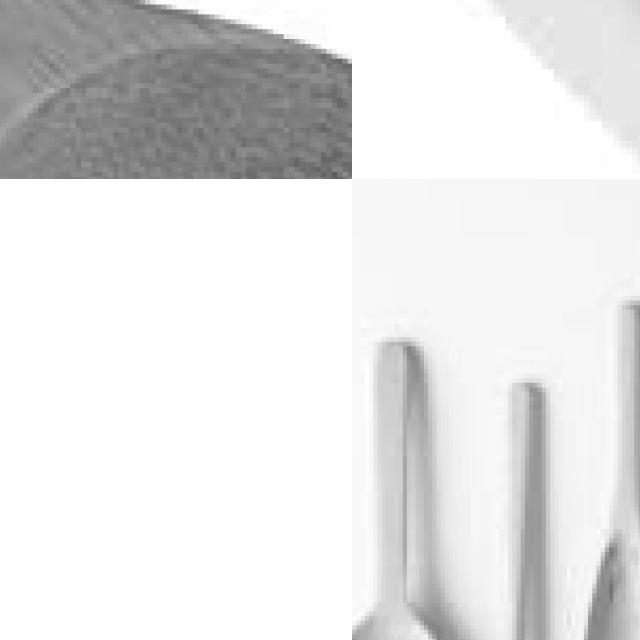spoons: (0, 0, 352, 179)
